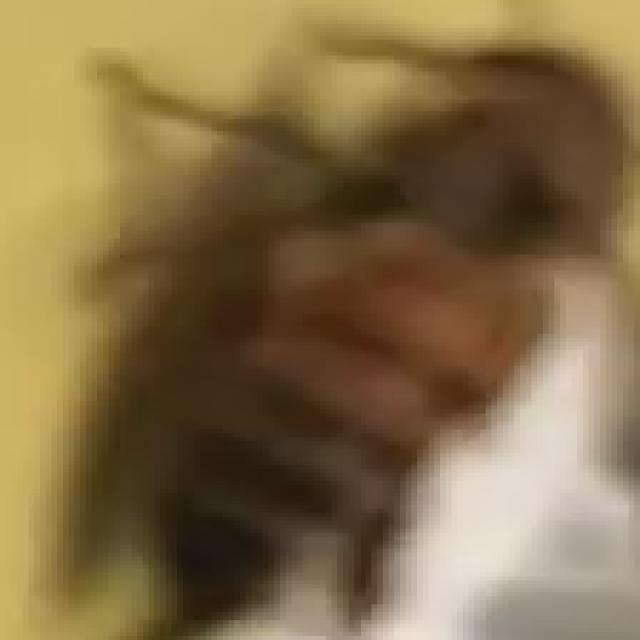honeybee: (128, 40, 556, 636), (386, 41, 640, 305)
